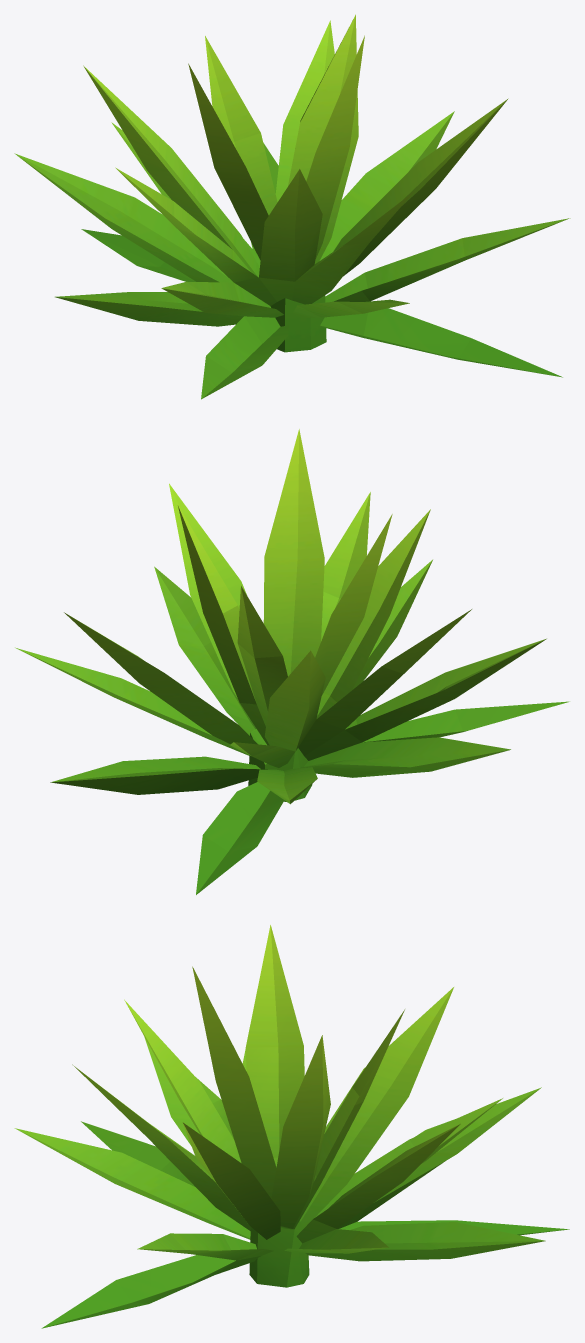
The picture shows the model from 3 angles, top to bottom: view 1: azimuth 30°, elevation 25°; view 2: azimuth 150°, elevation 25°; view 3: azimuth 270°, elevation 25°; orthographic projection. The views are drawn at different scales.
Parts seen in each view (by area): view 1: AgaveLow; view 2: AgaveLow; view 3: AgaveLow.
Boxes of the visible parts, x1=… form: AgaveLow: x1=14, y1=14, x2=570, y2=399; AgaveLow: x1=15, y1=429, x2=569, y2=894; AgaveLow: x1=14, y1=925, x2=569, y2=1328.
Size of the model in its own units: 2.27 by 1.57 by 2.48.
Materials: 1 (1 with a texture image).
